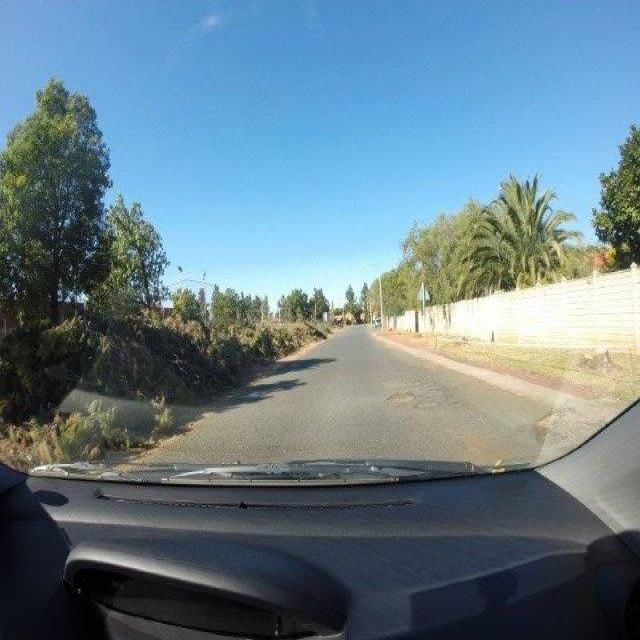lubang: (518, 402, 585, 458), (378, 385, 428, 404)
